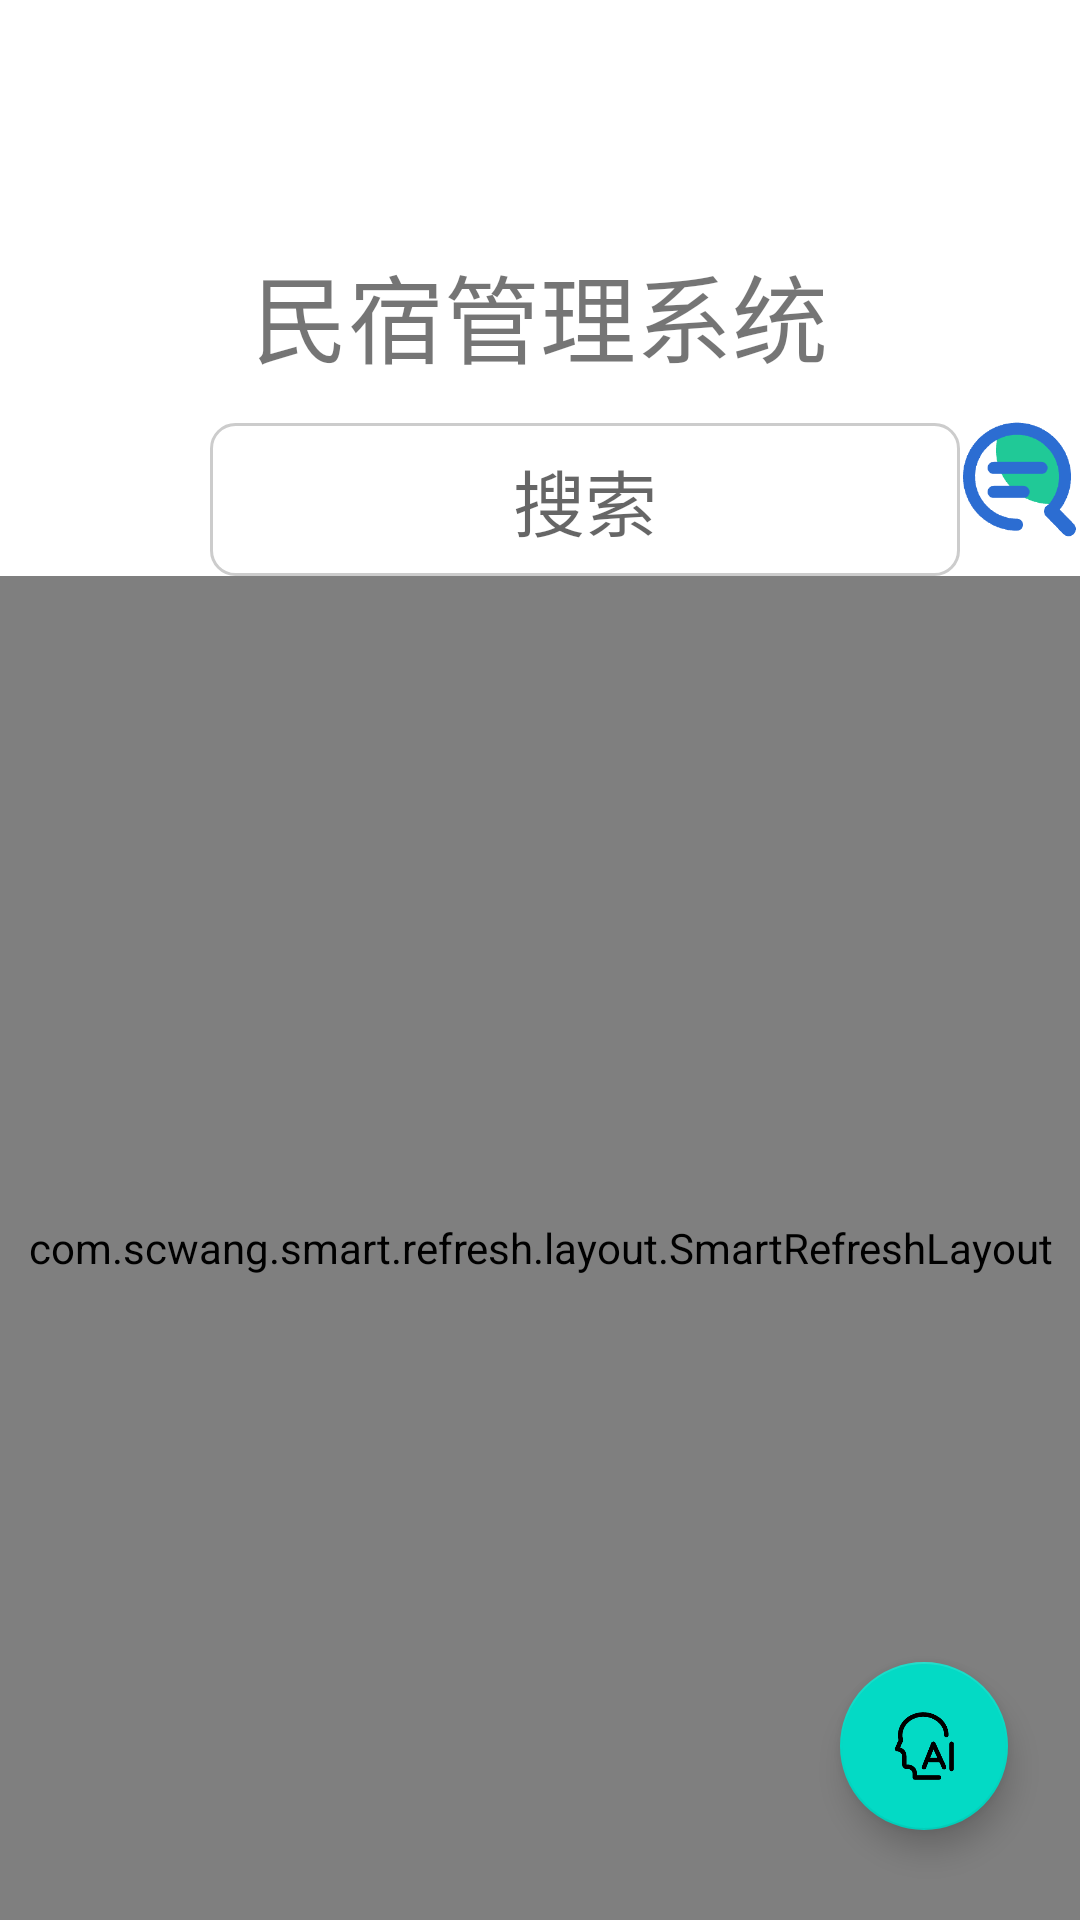

Icons on this 1080w x 1920h Android screen, each with the point to tap as [x,y]:
search: [1019,479]
